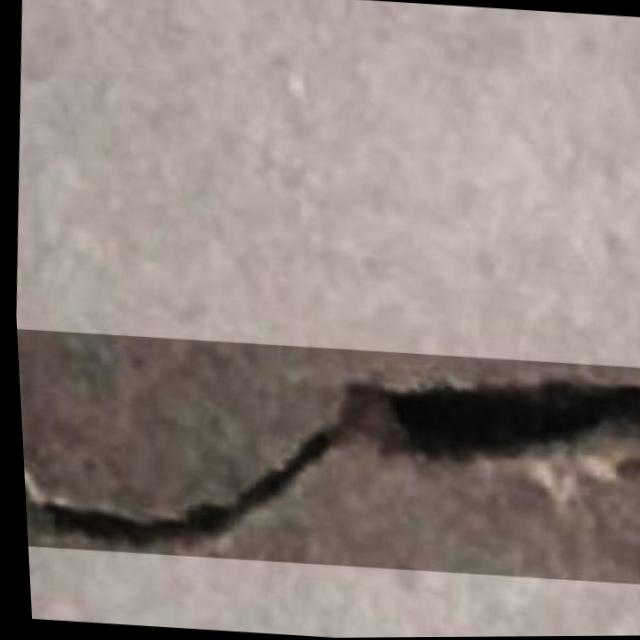Crack: (13, 309, 640, 627)
